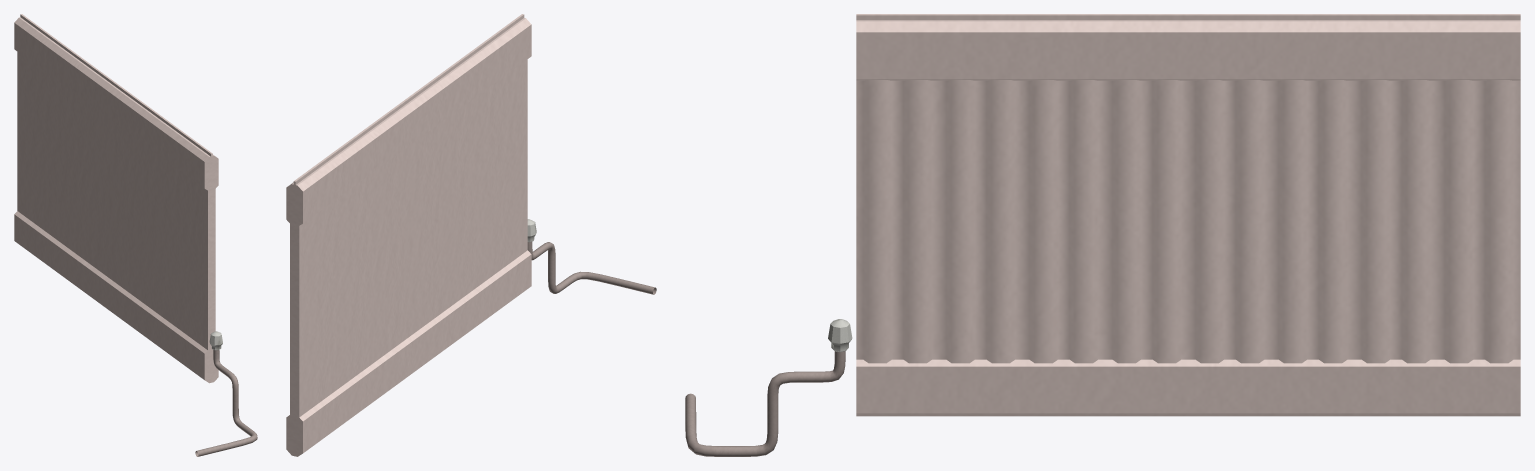
Rendered from Radiator.fbx.
The picture shows the model from 3 angles, left to right: view 1: azimuth 30°, elevation 25°; view 2: azimuth 150°, elevation 25°; view 3: azimuth 270°, elevation 25°; orthographic projection. The views are drawn at different scales.
Parts seen in each view (by area): view 1: Cube; view 2: Cube; view 3: Cube.
Boxes of the visible parts, x1,y1,x2,y2 form: Cube: [14, 14, 257, 456]; Cube: [286, 14, 656, 456]; Cube: [685, 14, 1520, 456].
Bounding box in the file's own units: 10.19 × 35.62 × 61.06.
